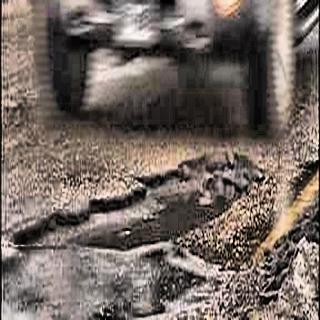pothole: (17, 142, 263, 250)
